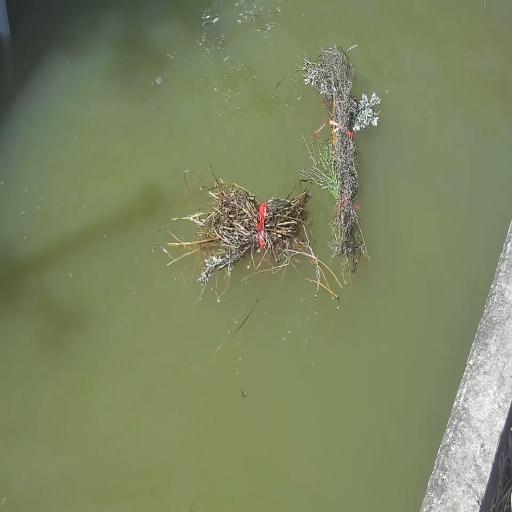twig: (308, 35, 386, 276), (200, 165, 314, 310)
